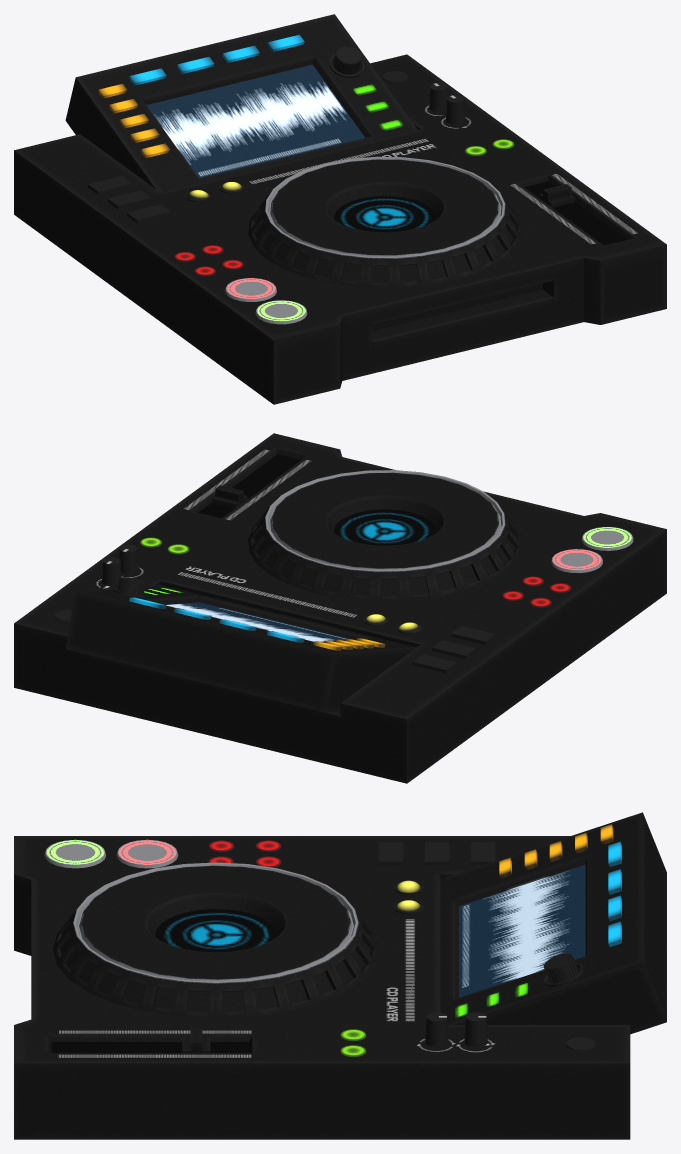
Rendered from cdj_player.glb.
The picture shows the model from 3 angles, top to bottom: view 1: azimuth 30°, elevation 25°; view 2: azimuth 150°, elevation 25°; view 3: azimuth 270°, elevation 25°; orthographic projection. The views are drawn at different scales.
Visible parts, largest first — view 1: Base_1, Disco_1; view 2: Base_1, Disco_1; view 3: Base_1, Disco_1.
Boxes of the visible parts, box(x1,y1,x2,y2) form: Base_1: box(14, 14, 666, 404); Disco_1: box(88, 34, 514, 324); Base_1: box(14, 433, 666, 783); Disco_1: box(54, 527, 633, 673); Base_1: box(14, 812, 666, 1139); Disco_1: box(44, 824, 621, 1056).
Size of the model in its own units: 1.65 by 0.4688 by 2.
2 materials, 2 textured.
